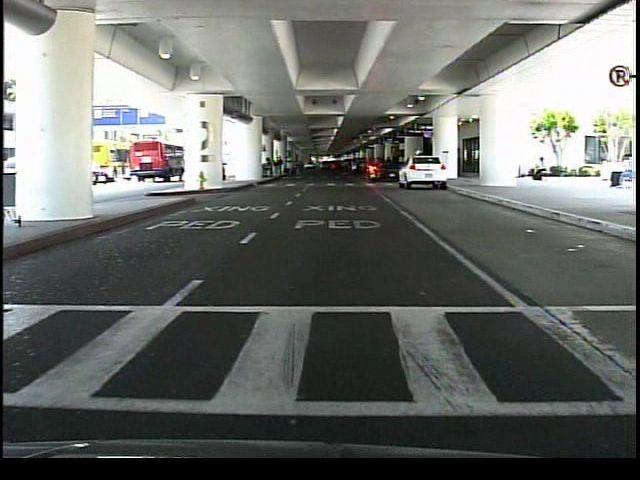person: (525, 152, 553, 190)
